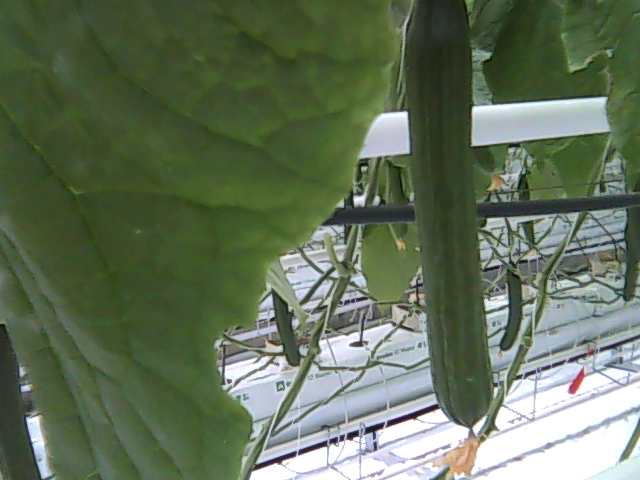concombre: (402, 1, 496, 477), (1, 321, 44, 480)
